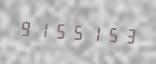five: (51, 18, 67, 43), (68, 19, 84, 44), (102, 21, 118, 46)
nine: (17, 15, 33, 40)
one: (34, 17, 50, 42), (85, 20, 101, 45)
three: (119, 22, 135, 48)
